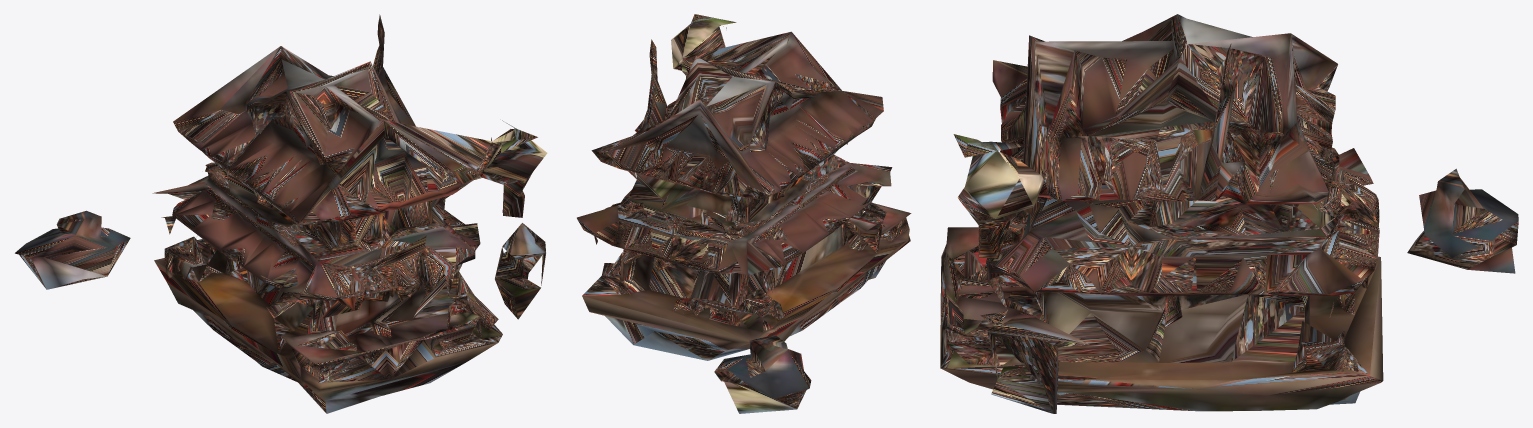
The model's file is bq_tavern.lod2.glb.
3 views of the same model, side by side, from view 1: azimuth 30°, elevation 25°; view 2: azimuth 150°, elevation 25°; view 3: azimuth 270°, elevation 25° (orthographic). The views are drawn at different scales.
Bounding box in the file's own units: 1.83 × 1.44 × 1.98.
1 material, 1 textured.
